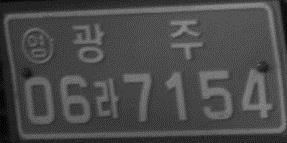0: (23, 75, 56, 125)
1: (163, 71, 194, 120)
4: (240, 68, 272, 119)
5: (199, 70, 233, 119)
6: (58, 74, 92, 125)
7: (121, 72, 153, 122)
광주_D: (71, 18, 204, 63)
라: (93, 77, 120, 119)
영: (20, 27, 55, 66)
